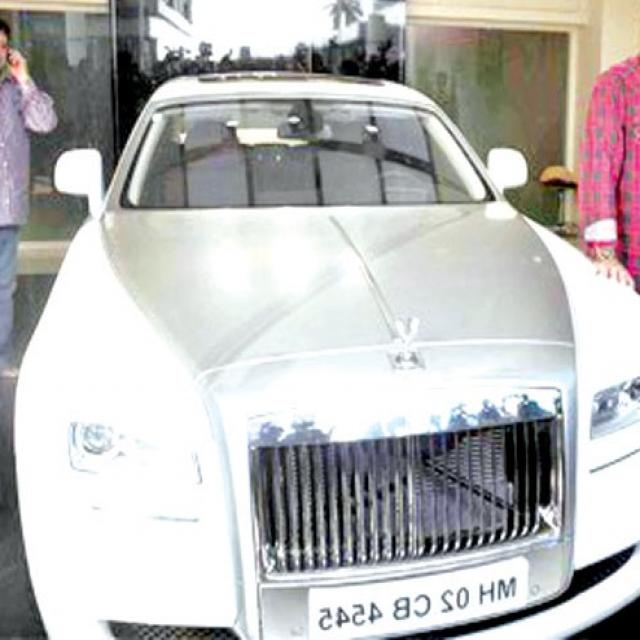license_plate: (303, 551, 529, 640)
